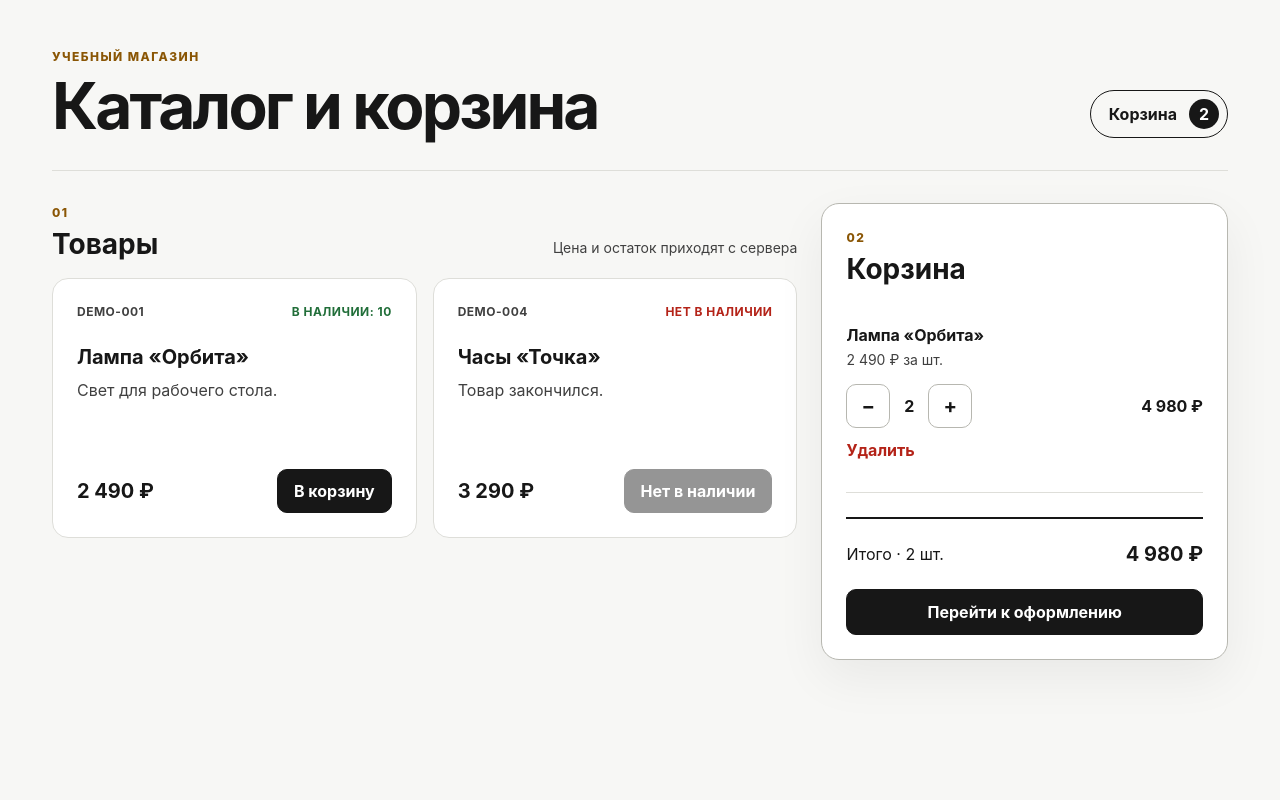
Test: Catalog and Cart › removes an item and replaces the canonical cache with the server Cart
Click the button with aria-label "Удалить «Лампа «Орбита»» из корзины" at (881, 450), box [846, 428, 915, 472]
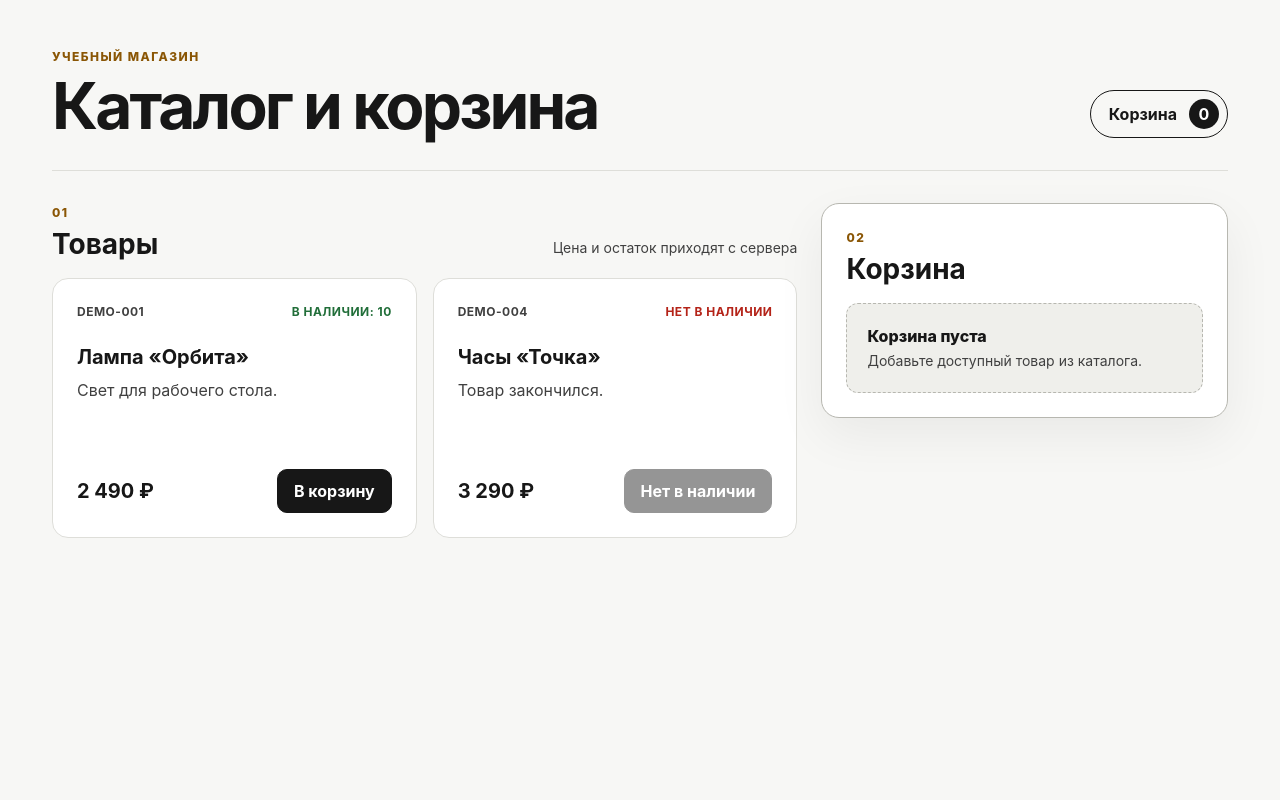
Result: the text "Корзина пуста" is shown at [867, 326, 987, 346]
